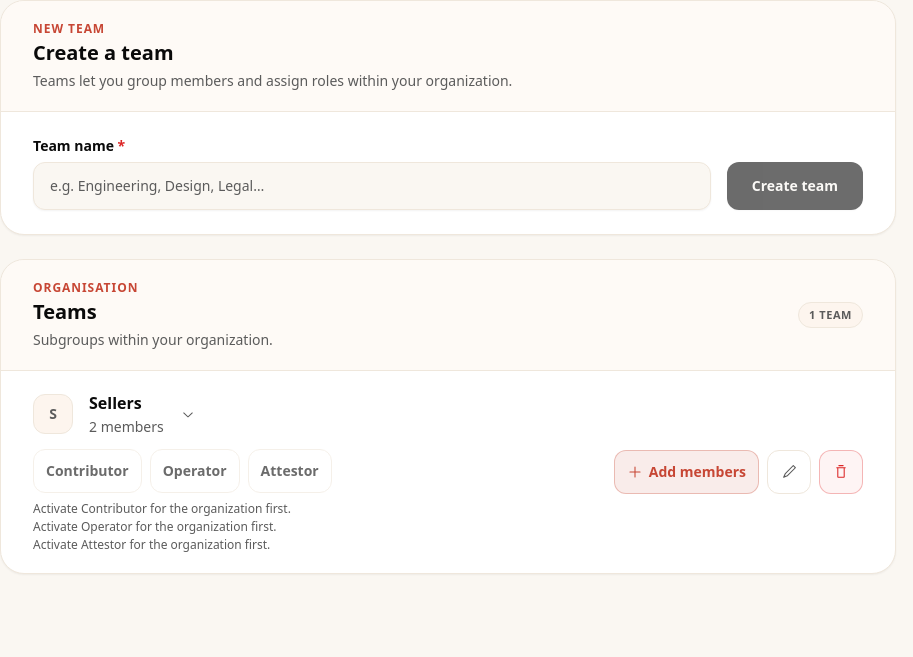
Scenario: OrganizationTeams › shows the server's message when a team cannot be created
Expected: the text "Sellers" is shown, [89, 392, 142, 414]
Step 1. Type "Sellers" into the field labelled "Team name *" → {"x": 372, "y": 186}, box [33, 162, 711, 210]
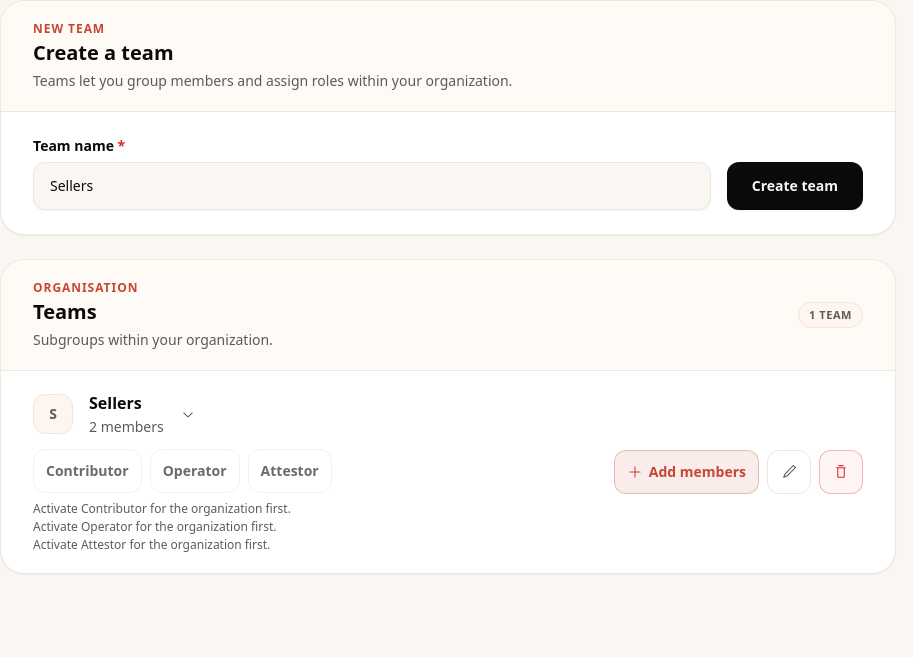
Step 2. Click the button "Create team" → {"x": 795, "y": 186}, box [727, 162, 863, 210]
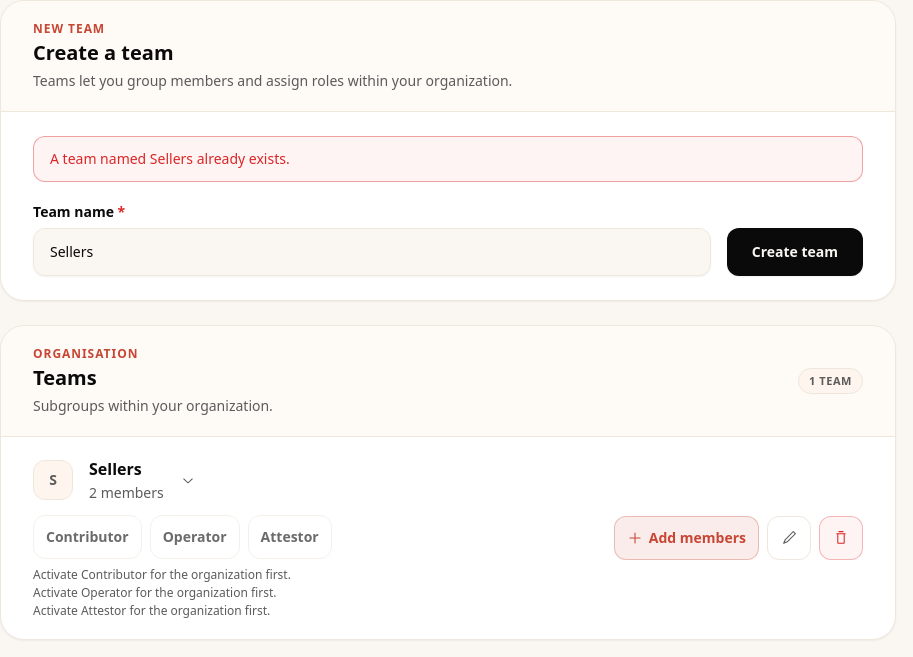
Now the text "A team named Sellers already exists." is shown, box [33, 136, 863, 182]
